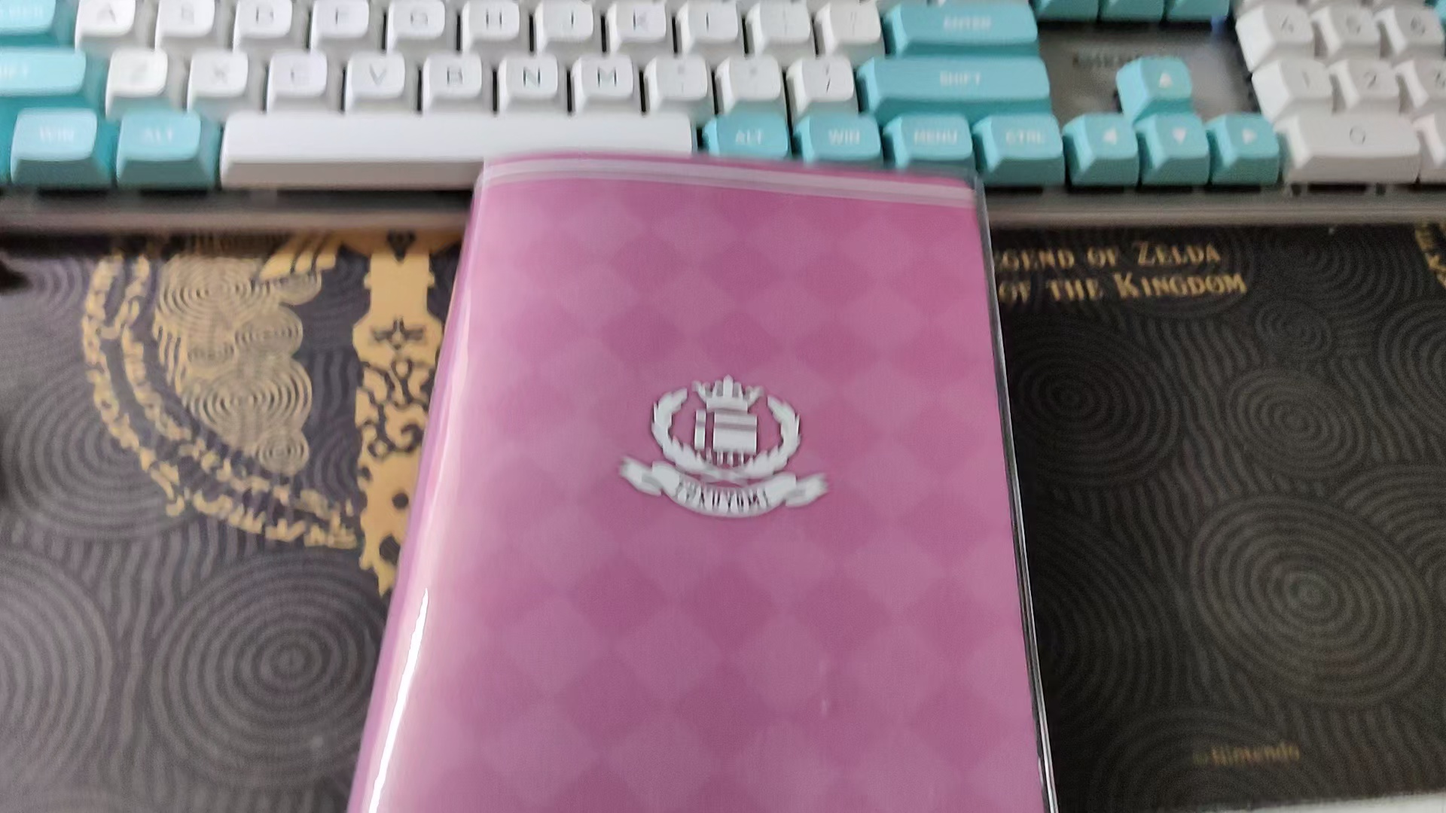Photo_book: (347, 146, 1052, 813)
